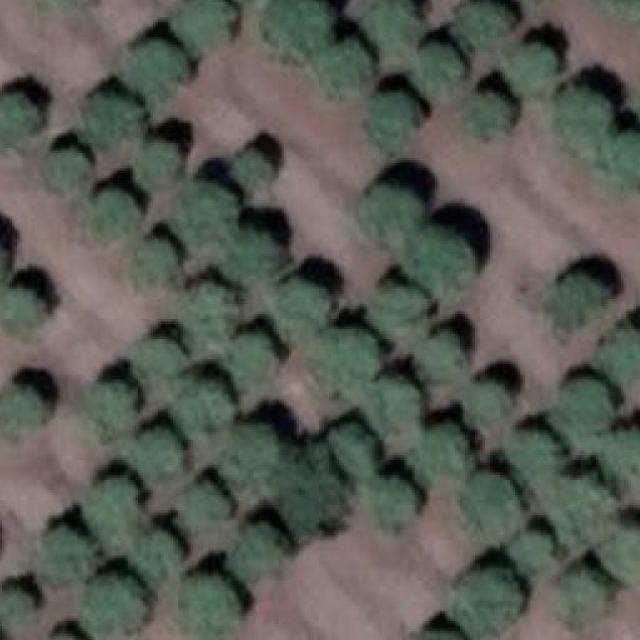Tree: (281, 448, 341, 533), (259, 0, 335, 57), (452, 569, 520, 632), (125, 42, 190, 103), (366, 91, 427, 154), (557, 87, 616, 148), (179, 575, 234, 640), (316, 327, 381, 382), (552, 274, 606, 339), (411, 233, 475, 286), (185, 284, 234, 349), (230, 520, 286, 576), (87, 576, 146, 629), (228, 334, 279, 395), (169, 0, 234, 47), (178, 183, 234, 237), (220, 231, 276, 285), (555, 475, 611, 528), (364, 186, 417, 242), (464, 473, 517, 528), (273, 279, 326, 334), (39, 530, 98, 579), (560, 379, 611, 435), (84, 95, 145, 141), (596, 323, 640, 384), (87, 475, 133, 533), (228, 417, 274, 475), (177, 379, 231, 428), (369, 379, 420, 430), (416, 40, 462, 96), (328, 425, 379, 475), (324, 39, 374, 88), (369, 284, 430, 324), (505, 42, 554, 91), (87, 381, 136, 430), (417, 425, 467, 473), (367, 0, 420, 45), (450, 2, 508, 42), (0, 389, 51, 434), (127, 428, 180, 471), (465, 89, 510, 138), (183, 478, 232, 523), (507, 433, 556, 476), (0, 92, 43, 140), (603, 131, 640, 186), (370, 477, 415, 522), (135, 339, 188, 377), (603, 428, 640, 478), (135, 533, 178, 574), (566, 565, 604, 611), (601, 530, 640, 574), (98, 190, 143, 228), (2, 286, 47, 324), (470, 382, 510, 423), (137, 140, 180, 178), (422, 332, 460, 375), (135, 238, 173, 279), (46, 151, 90, 186), (511, 530, 548, 566), (0, 588, 30, 625), (236, 151, 270, 181)
